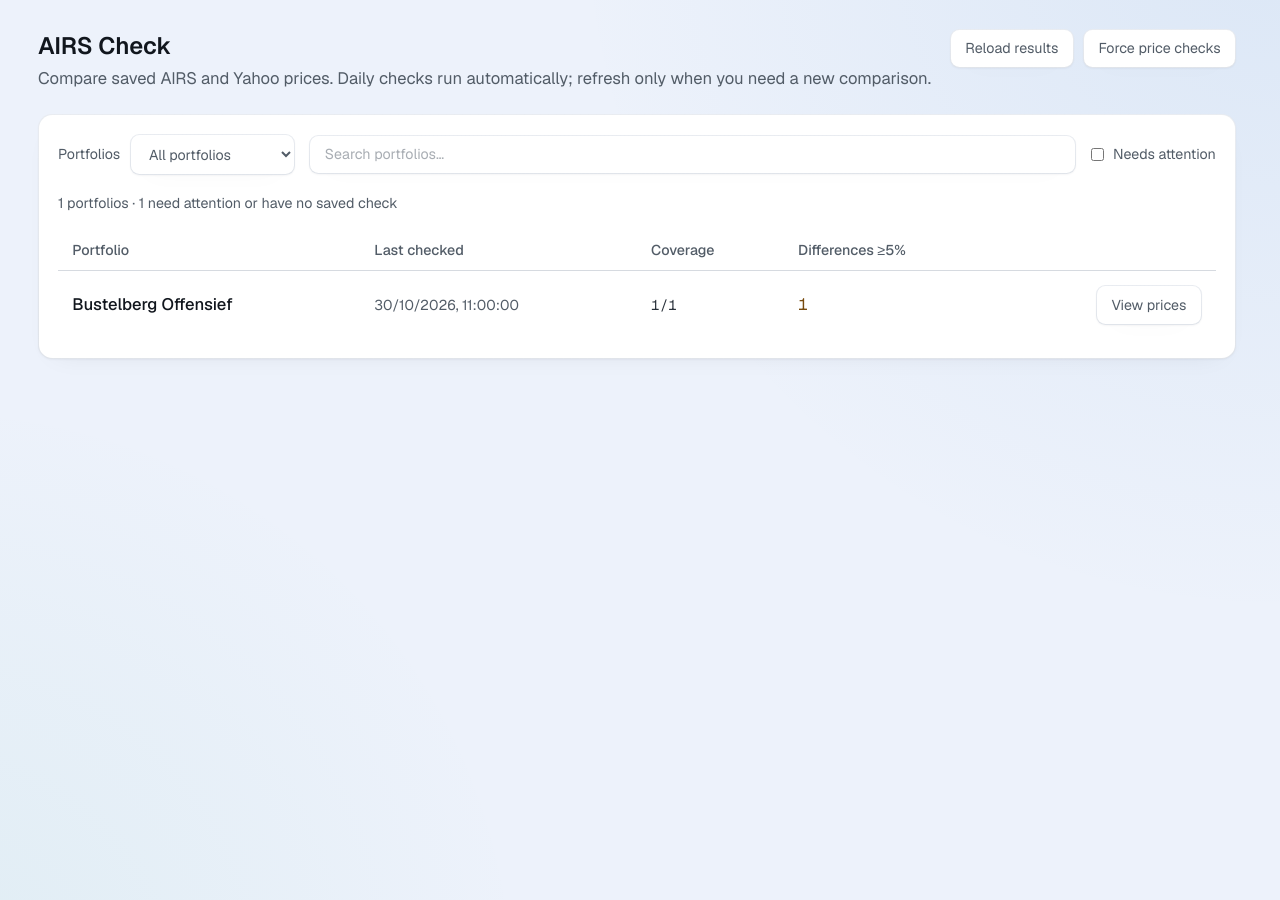
Test: reports a failed batch while keeping saved results available
The width and height of the screenshot is (1280, 900).
What coordinates should you click on to do the following:
click the button "Force price checks"
I would click on:
 (1159, 48)
Its box is [1083,28,1236,68].
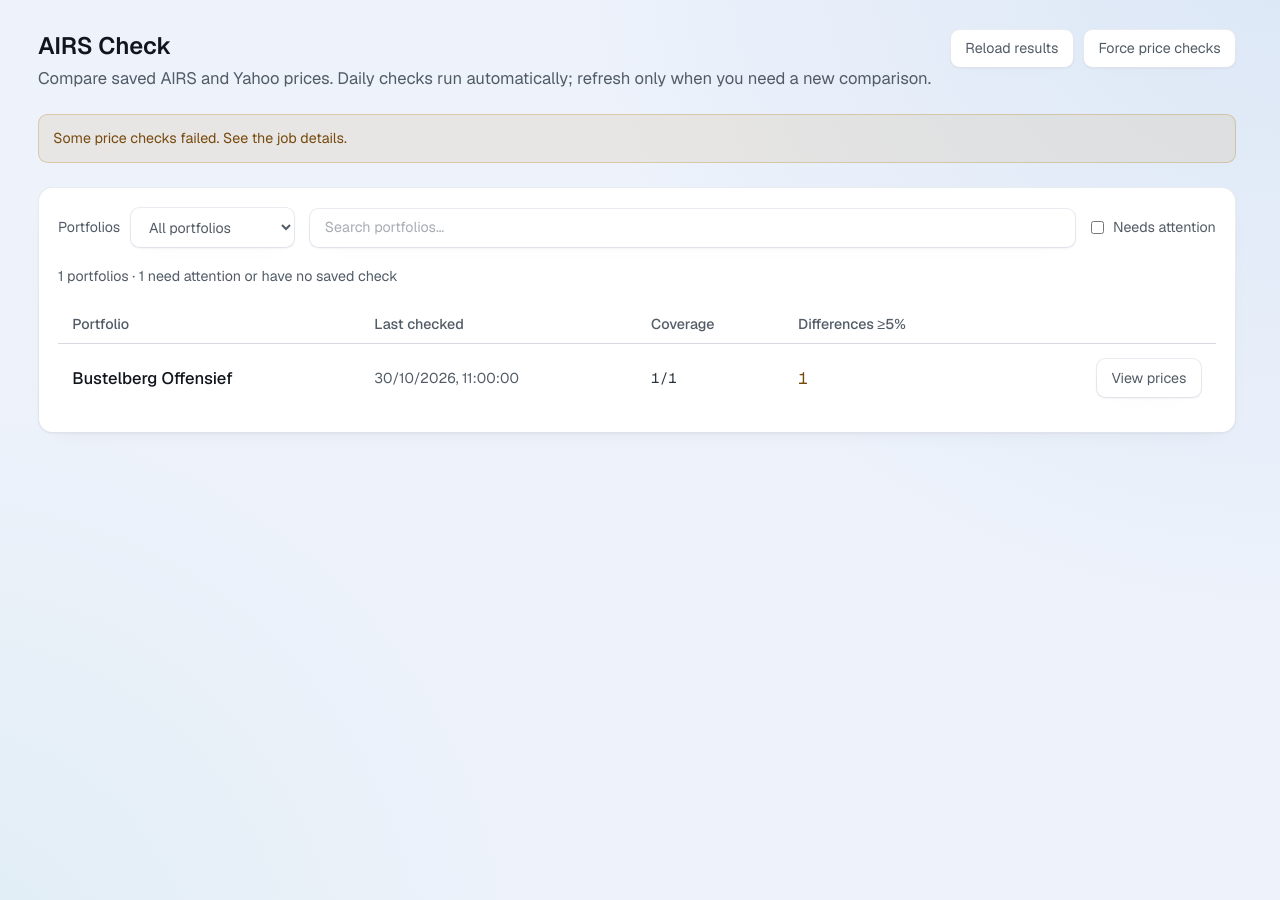
Expected: the text "Bustelberg Offensief" is shown, [58,344,360,413]
Now the message "Some price checks failed. See the job details." is shown, box [38,114,1236,164]
